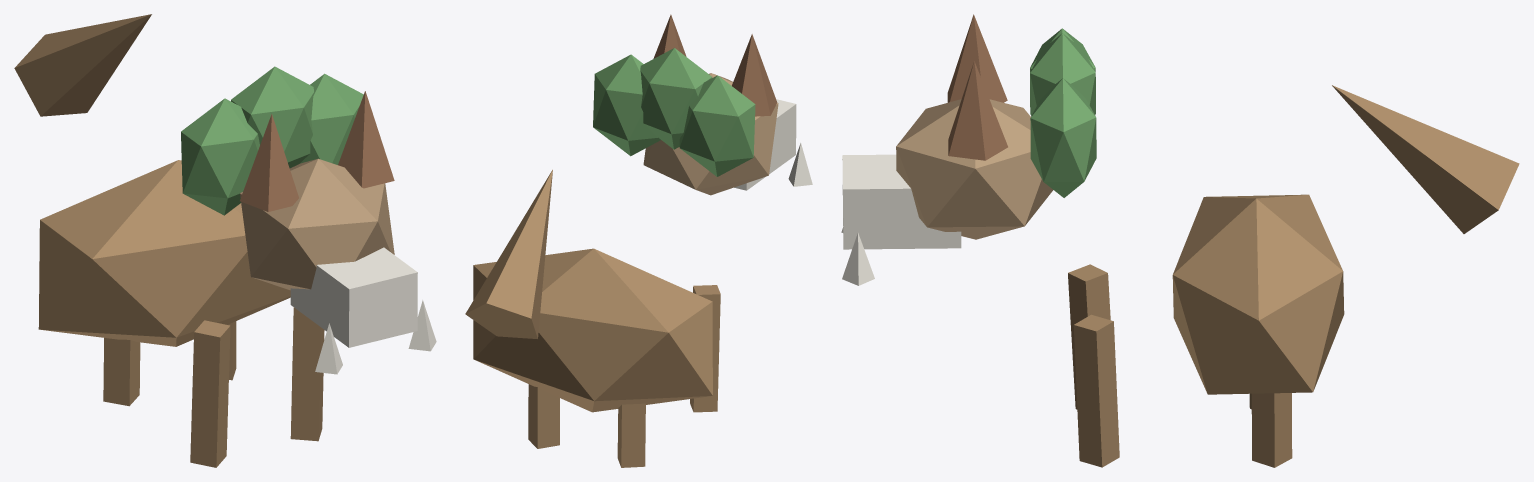
File: npcpose_wolf_idle_04.glb
3 renders of one model, left to right at view 1: azimuth 30°, elevation 25°; view 2: azimuth 150°, elevation 25°; view 3: azimuth 270°, elevation 25°, orthographic. The views are drawn at different scales.
Visible parts, largest first — view 1: npcpose; view 2: npcpose; view 3: npcpose.
Boxes of the visible parts, box(x1,y1,x2,y2) form: npcpose: box(14, 14, 436, 467); npcpose: box(465, 14, 812, 467); npcpose: box(841, 14, 1519, 467).
Size of the model in its own units: 0.8873 by 1.2 by 1.84.
